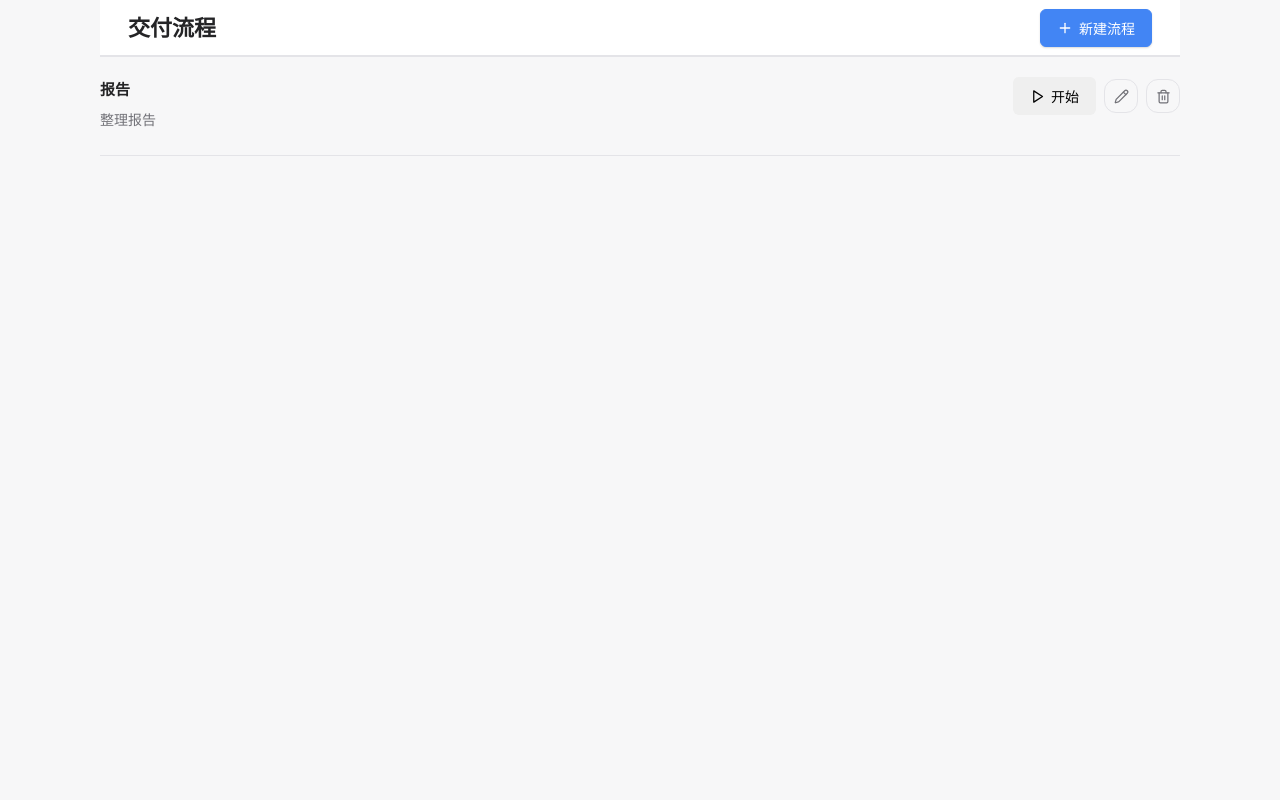
requires confirmation before deleting a stored template
Click the button named "删除 报告": (1163, 96) left=1146, top=79, right=1180, bottom=113
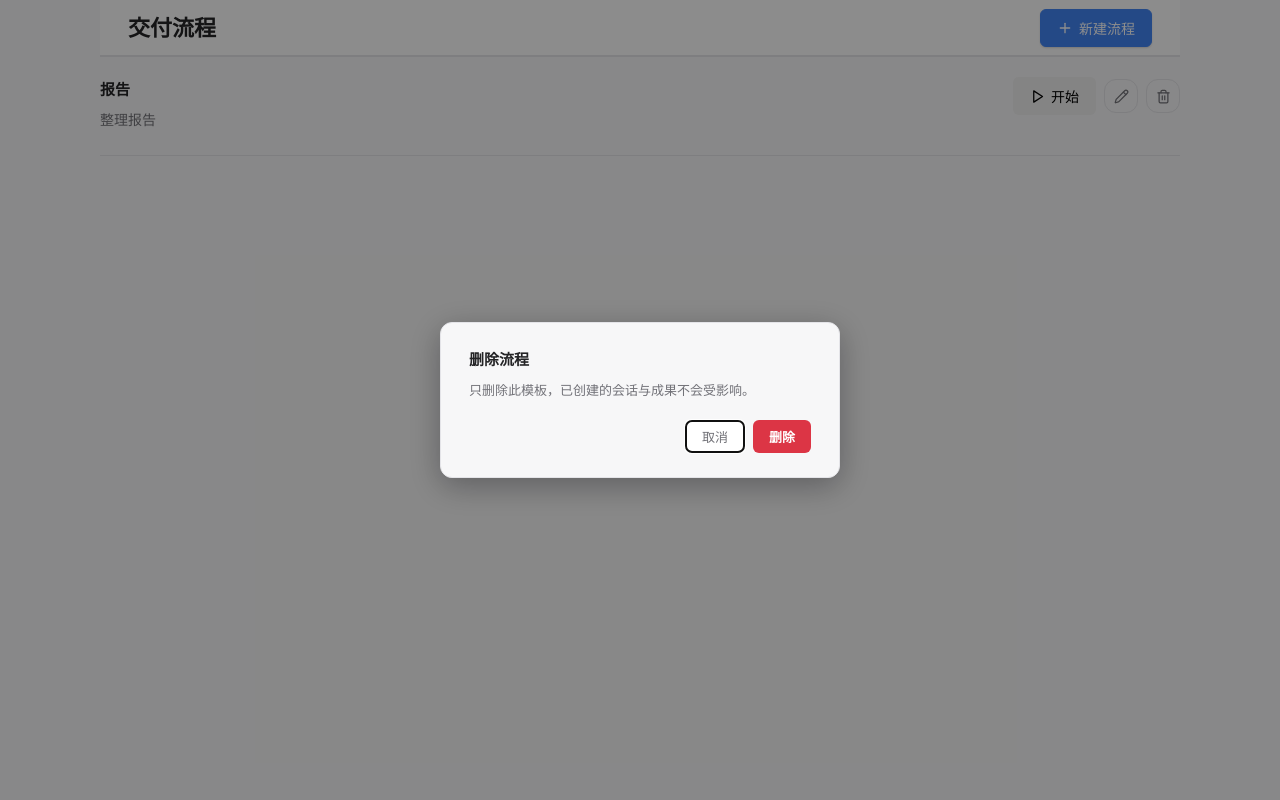
Result: the dialog is shown at left=440, top=322, right=840, bottom=478
Click the button "删除": (782, 437) left=753, top=420, right=811, bottom=453
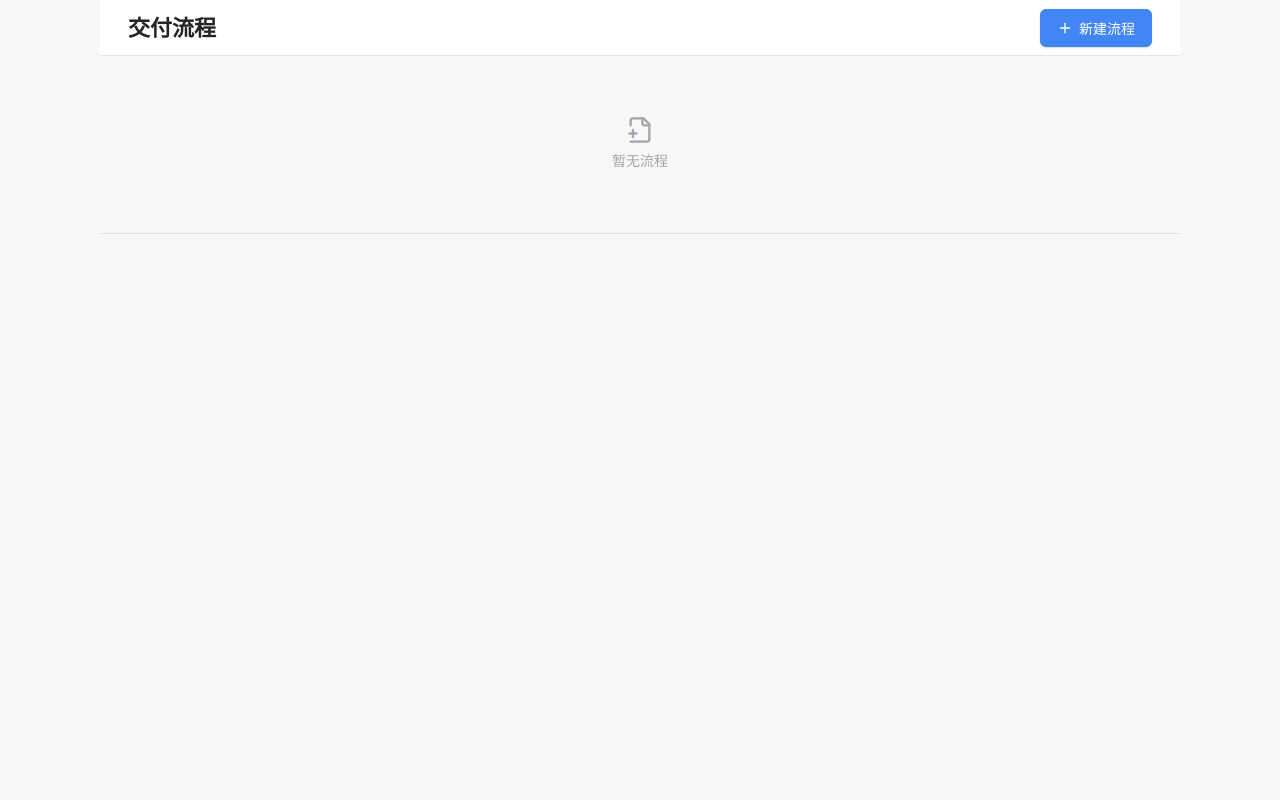
Result: the heading "报告" is gone
